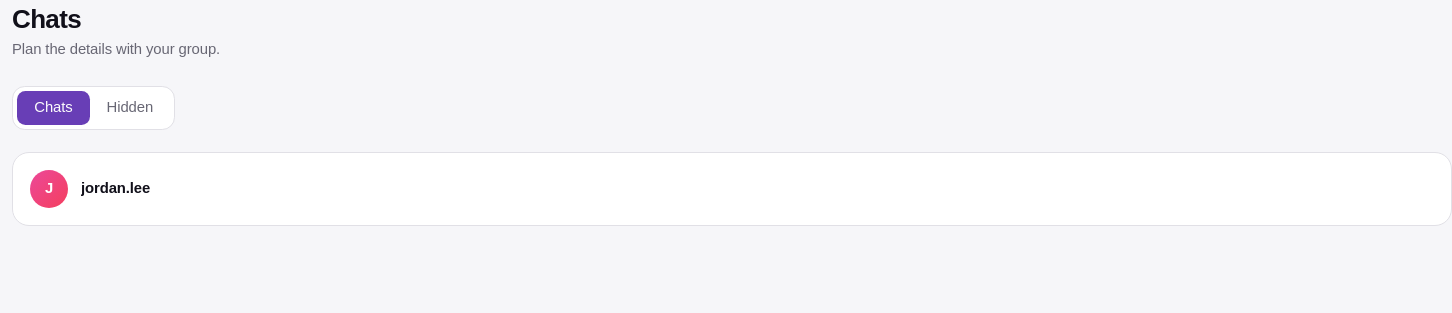
Test: ChatRoomsPage › shows "No hidden chats" without a PIN prompt when no PIN has been set
This screenshot has width=1452, height=313.
Check: the text "jordan.lee" is shown, box 81,178 -> 150,199
What coordinates should you click on to do the following:
click the link "Hidden"
I would click on:
 (130, 107)
Its box is 107,99 -> 153,115.
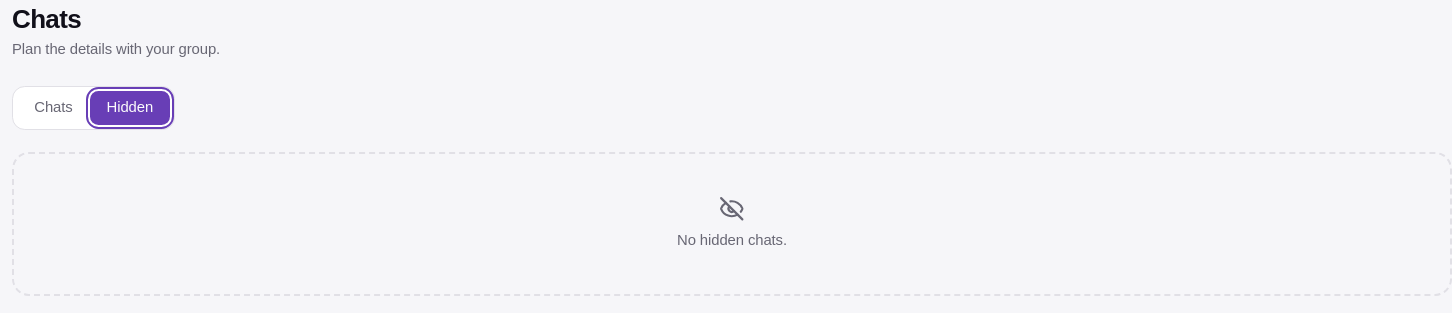
Check: the text "No hidden chats." is shown, box 677,230 -> 787,251
